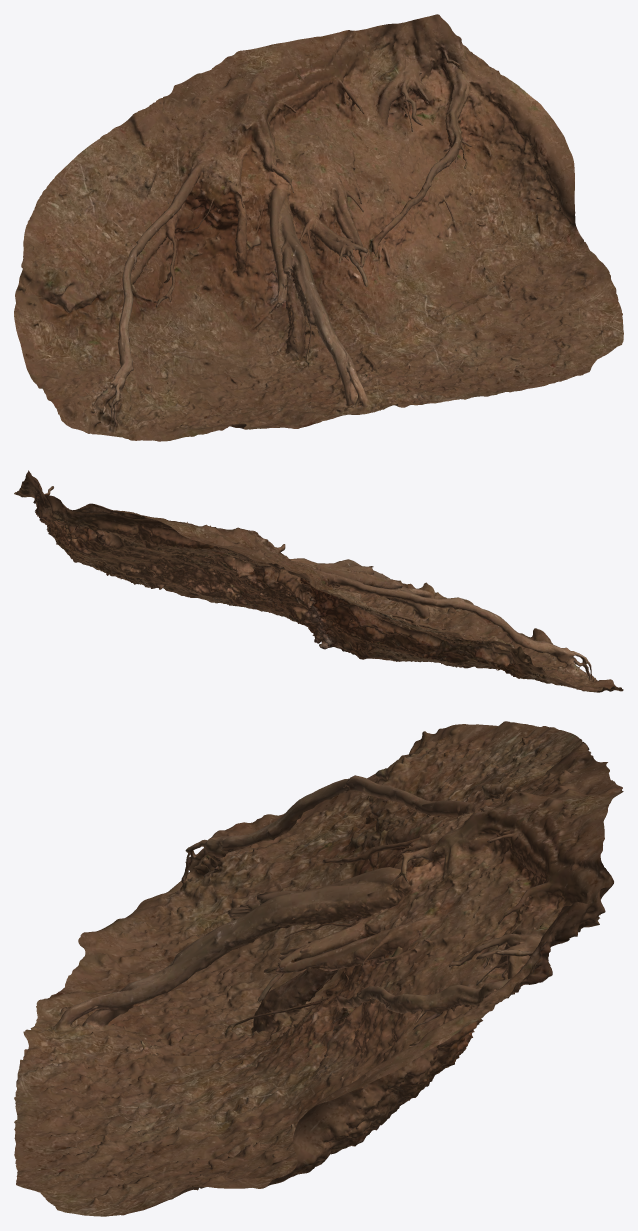
File: root_cluster_01.glb
3 views of the same model, one above another, from view 1: azimuth 30°, elevation 25°; view 2: azimuth 150°, elevation 25°; view 3: azimuth 270°, elevation 25° (orthographic). The views are drawn at different scales.
Parts seen in each view (by area): view 1: root_cluster_01; view 2: root_cluster_01; view 3: root_cluster_01.
Boxes of the visible parts, x1,y1,x2,y2 form: root_cluster_01: (14,14,623,441); root_cluster_01: (14,470,623,692); root_cluster_01: (14,721,623,1216).
Size of the model in its own units: 4.12 by 1.51 by 2.68.
Materials: 1 (1 with a texture image).
